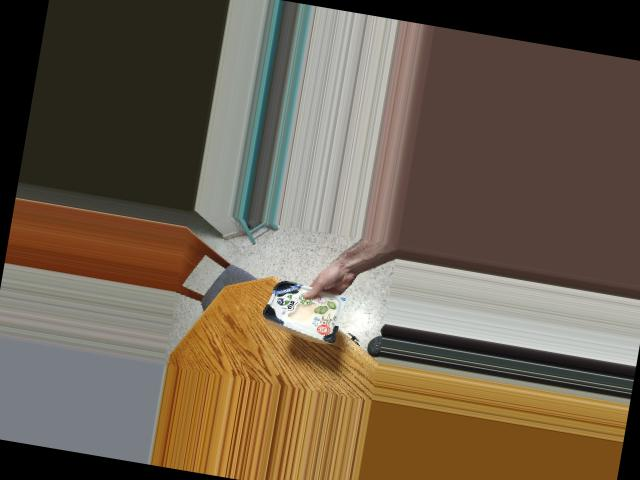cheese: (268, 272, 334, 342)
